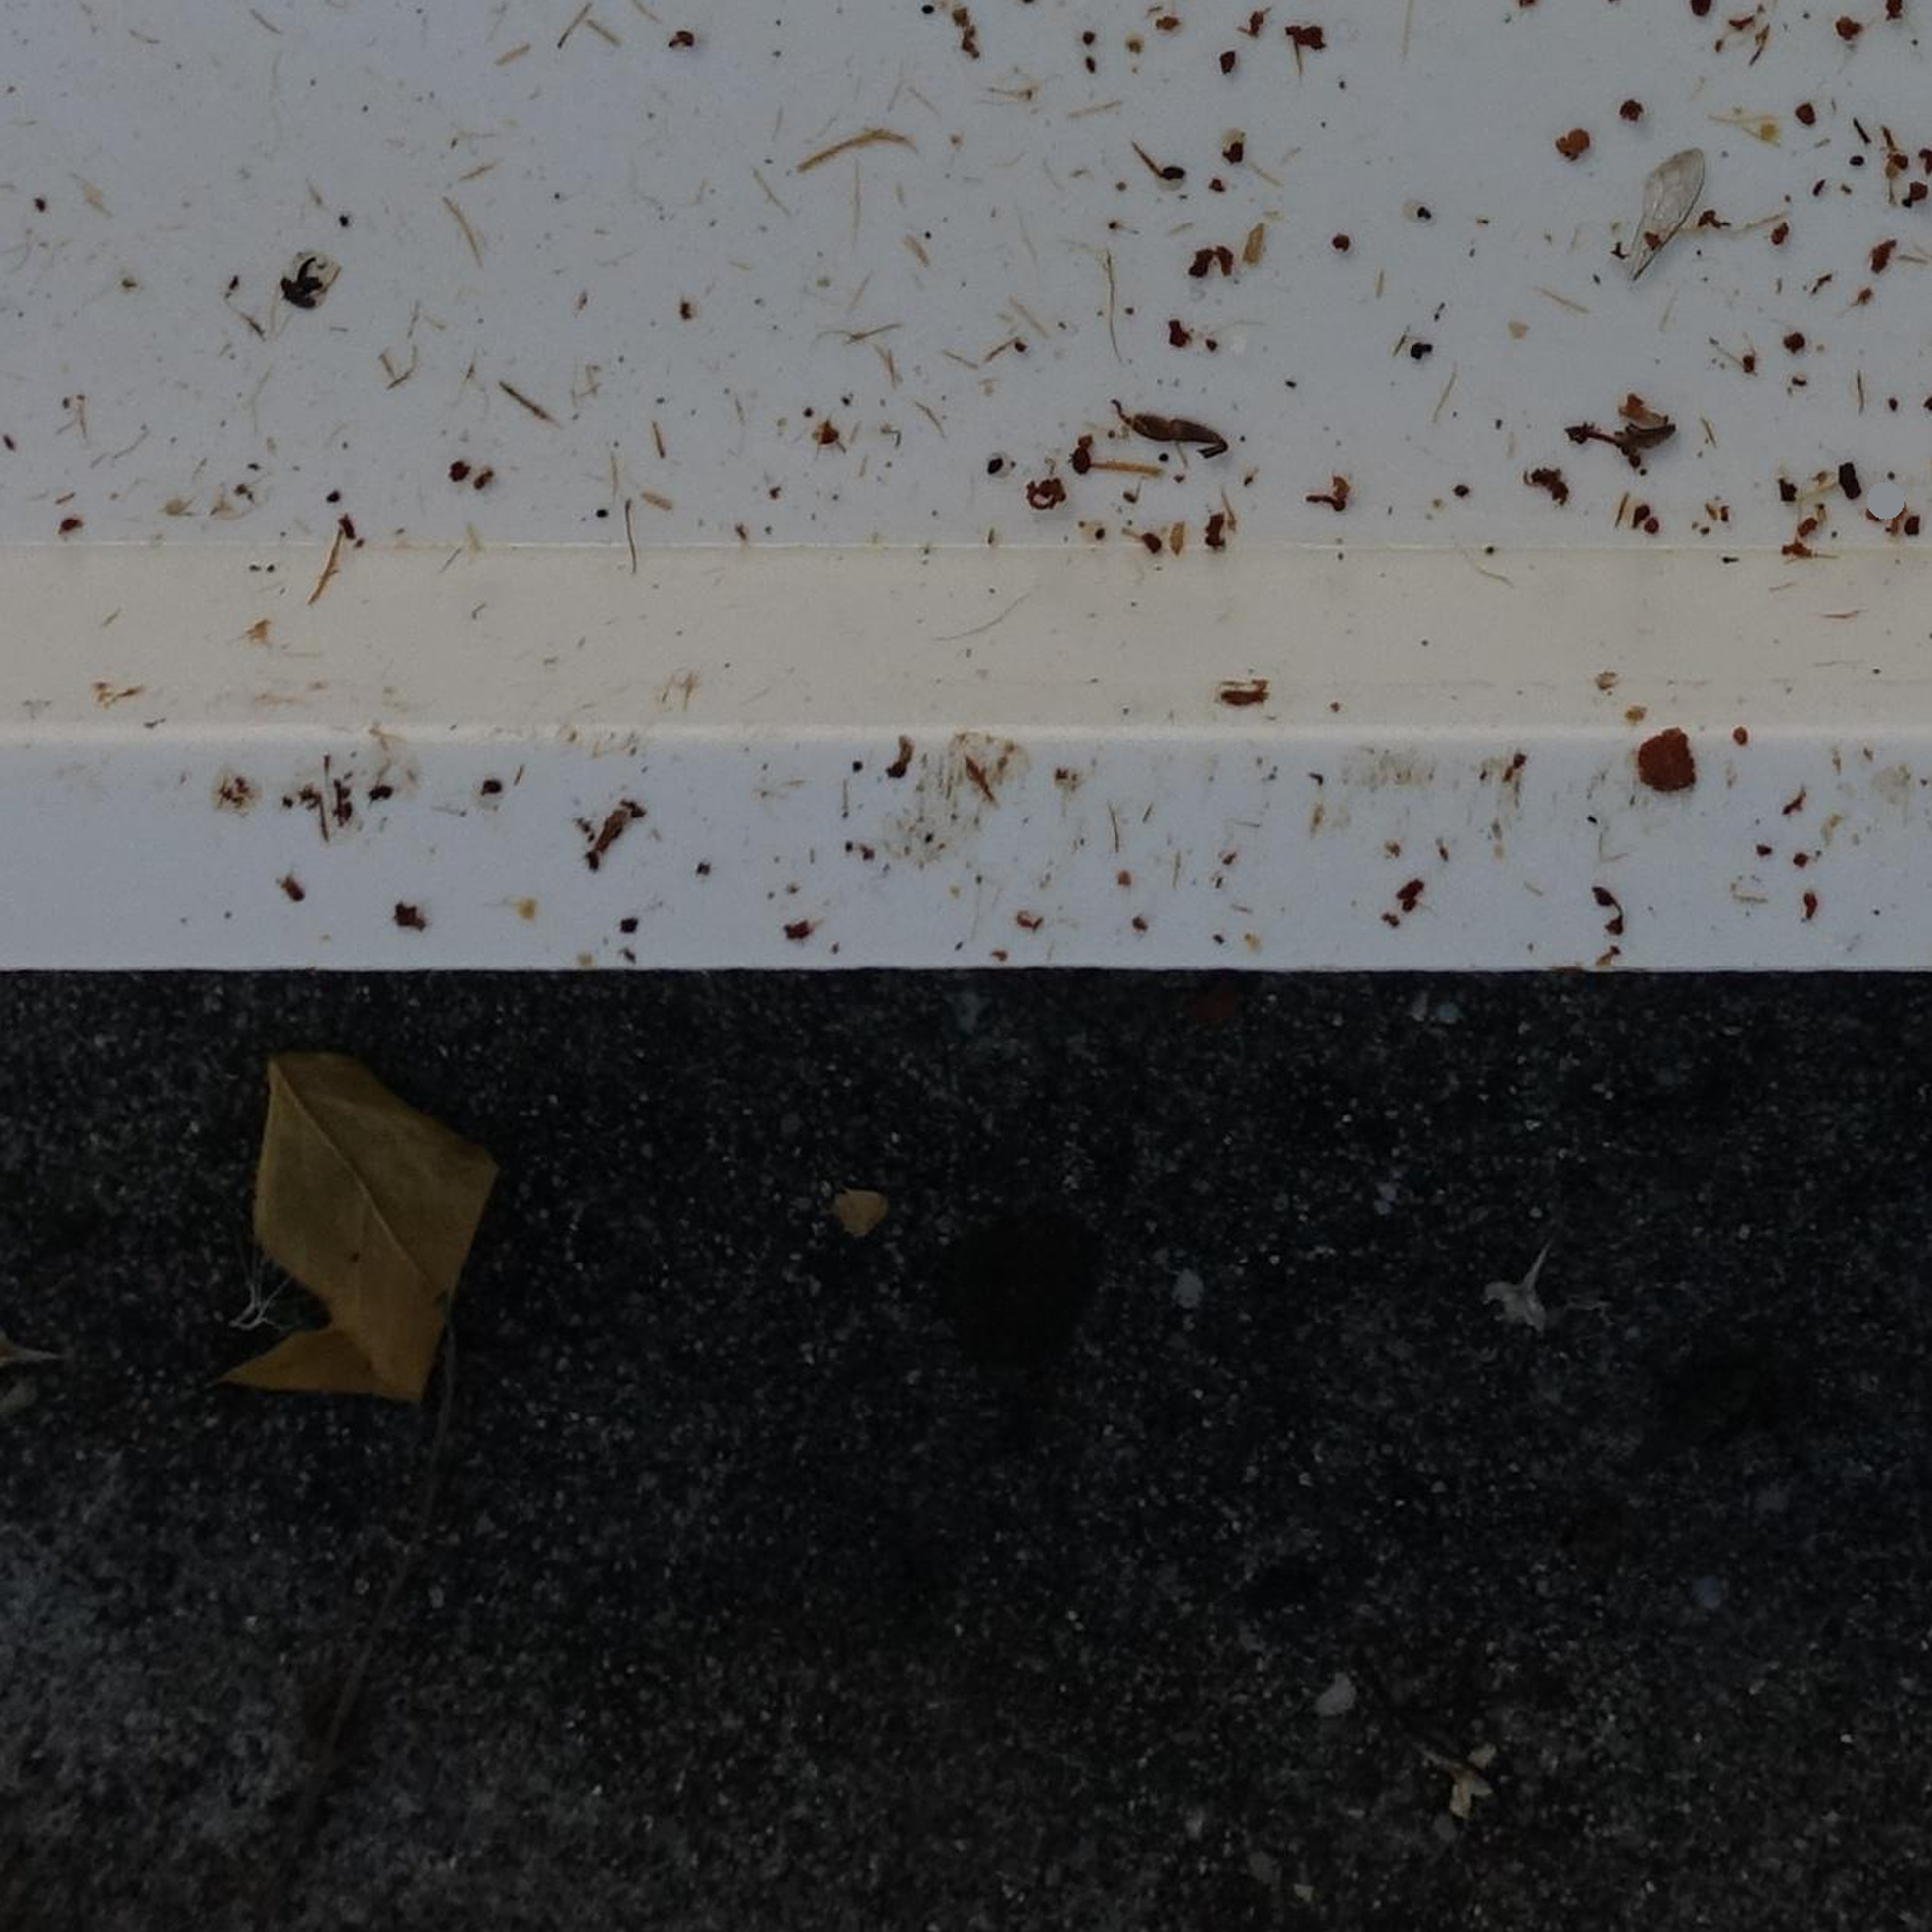Varroa: (1072, 449, 1093, 471)
